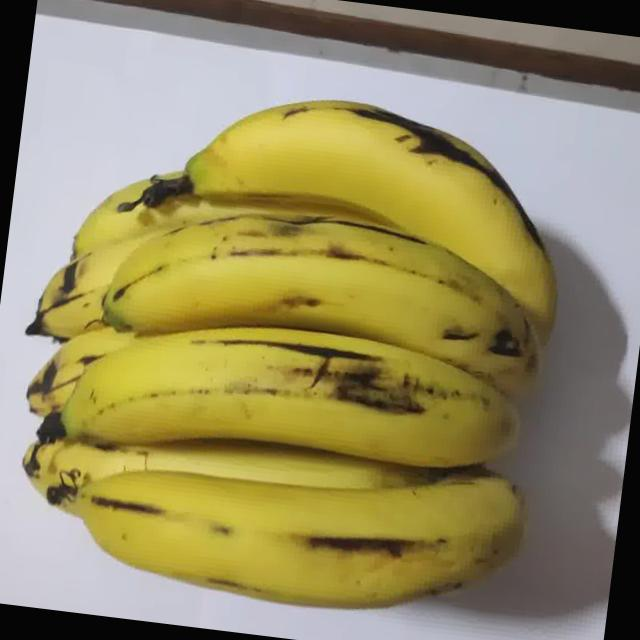banana_pacche: (0, 23, 600, 623)
